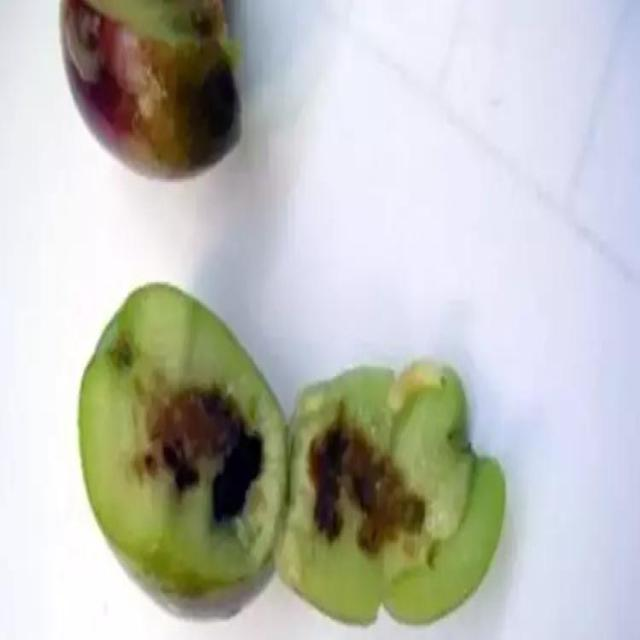Anthracnose: (78, 284, 506, 624), (62, 0, 240, 176)
